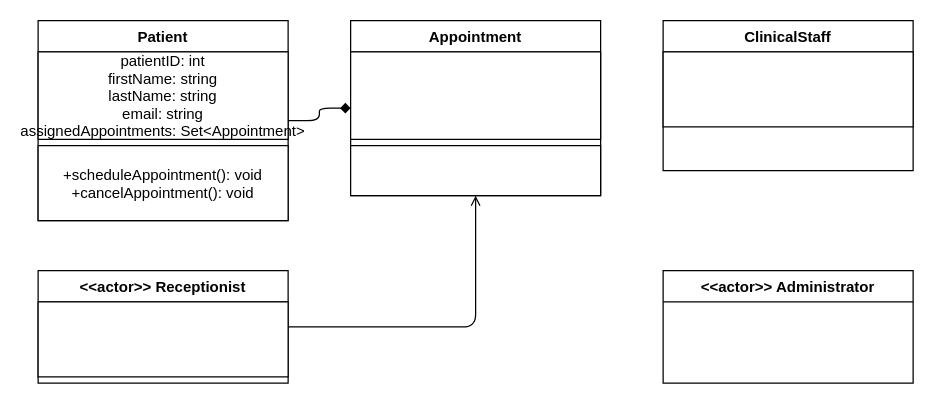
Image size: 934x404. Some labels were removed from this diagram. Here are the shapes that lost their labels. From the top down, the centre of each, then its label:
point 475,95: appointmentID: int date: Date status: string
point 787,89: staffID: int name: string specialization: string
point 475,170: +confirmAppointment(): void
point 162,339: receptionistID: int name: string
